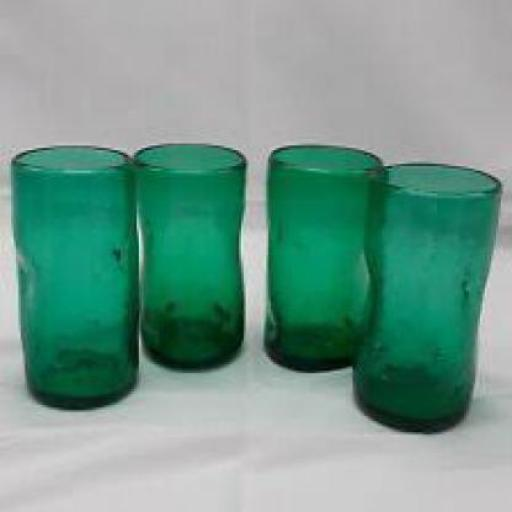glass: (351, 162, 498, 428), (7, 143, 138, 410), (259, 143, 382, 371), (130, 144, 243, 368)
